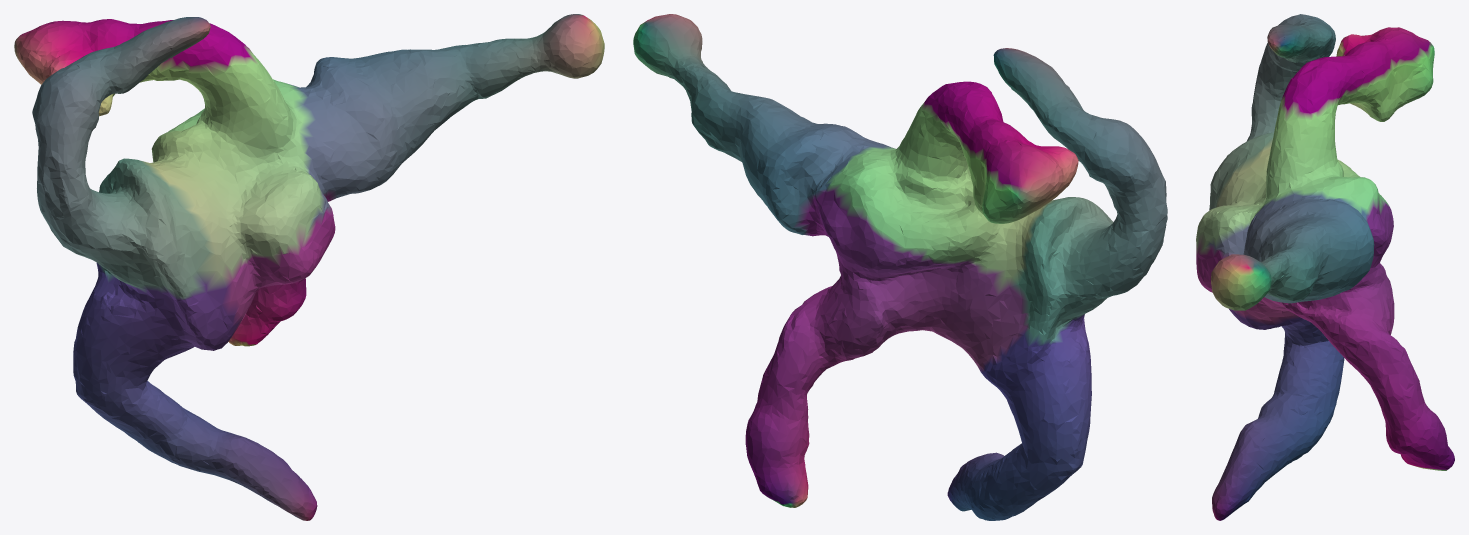
The model's file is santa-6.off.obj.
3 views of the same model, side by side, from view 1: azimuth 30°, elevation 25°; view 2: azimuth 150°, elevation 25°; view 3: azimuth 270°, elevation 25° (orthographic). The views are drawn at different scales.
Bounding box in the file's own units: 1.36 × 1.2 × 0.6215.
